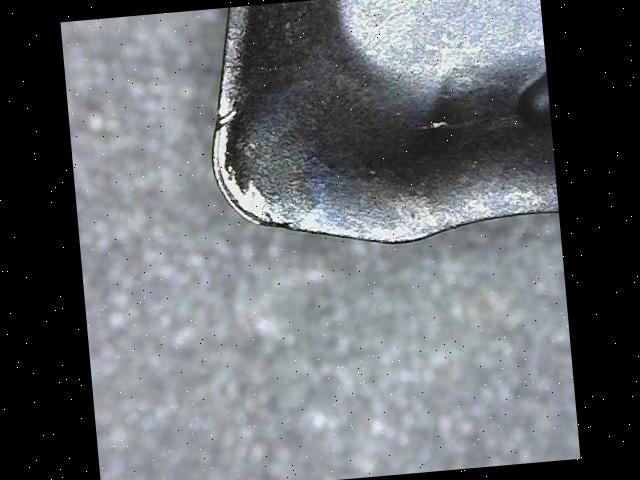normal: (293, 205, 558, 244), (219, 5, 249, 107)
wear: (211, 90, 297, 227)
